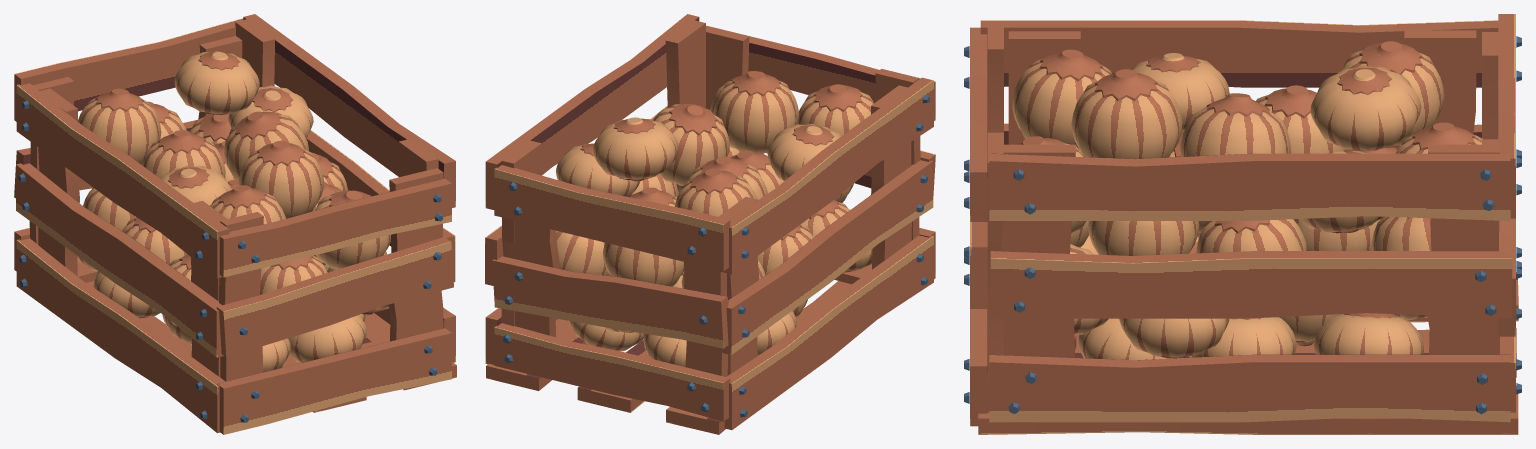
The model's file is Cajon_Cebolla.fbx.
3 views of the same model, side by side, from view 1: azimuth 30°, elevation 25°; view 2: azimuth 150°, elevation 25°; view 3: azimuth 270°, elevation 25° (orthographic). The views are drawn at different scales.
Parts seen in each view (by area): view 1: Cajon_Cebolla; view 2: Cajon_Cebolla; view 3: Cajon_Cebolla.
Boxes of the visible parts, x1,y1,x2,y2 form: Cajon_Cebolla: (14, 14, 456, 434); Cajon_Cebolla: (485, 14, 935, 434); Cajon_Cebolla: (964, 14, 1521, 434).
Bounding box in the file's own units: 80.53 × 72.34 × 119.
